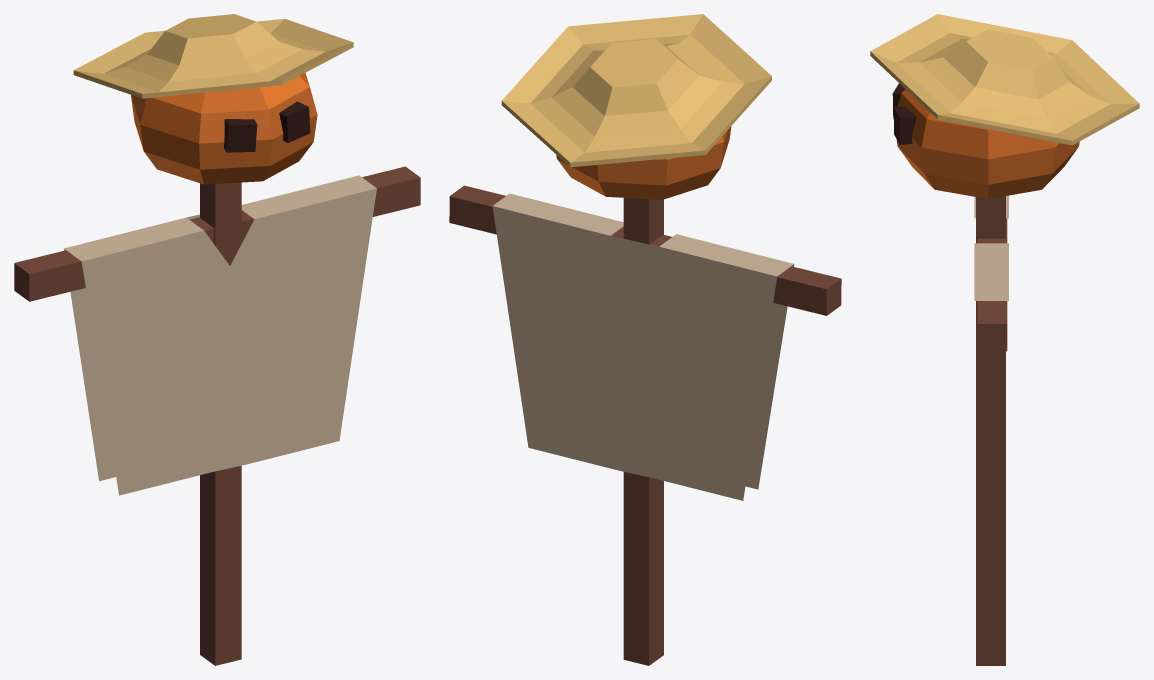
The model's file is scarecrow.fbx.
3 views of the same model, side by side, from view 1: azimuth 30°, elevation 25°; view 2: azimuth 150°, elevation 25°; view 3: azimuth 270°, elevation 25° (orthographic). The views are drawn at different scales.
Visible parts, largest first — view 1: boby, head, stick; view 2: boby, head, stick; view 3: head, stick, boby.
Part boxes in pixels (x1,y1,x2,y2): boby: (14,166,420,495); head: (73,14,353,184); stick: (200,182,241,665); boby: (449,185,841,500); head: (501,14,771,199); stick: (623,198,663,665); head: (870,14,1139,198); stick: (976,196,1005,665); boby: (974,195,1008,351).
Size of the model in its own units: 77.85 by 120 by 47.46.
